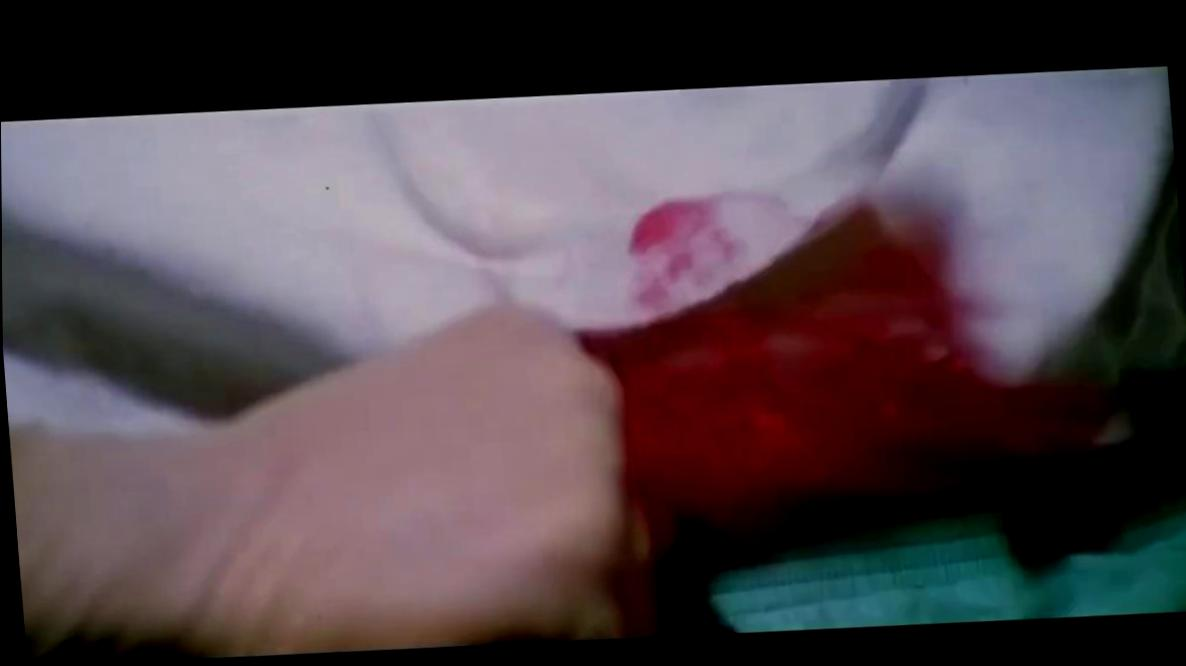Fire: (578, 195, 1117, 547)
